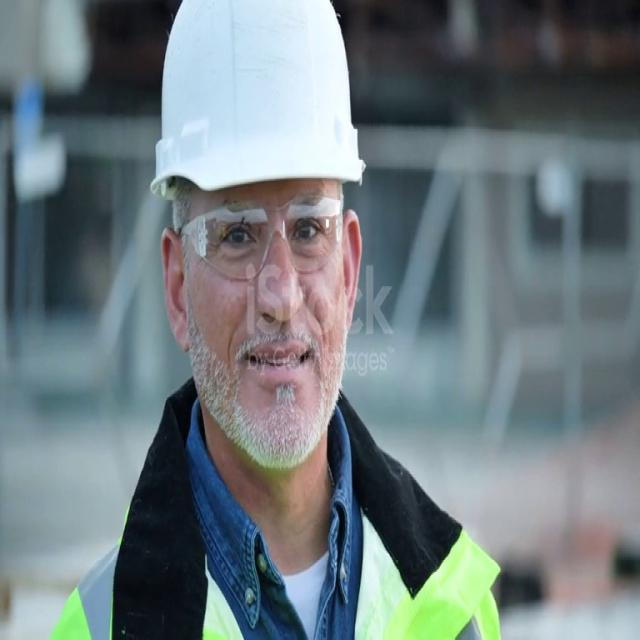capacete: (146, 0, 376, 233)
